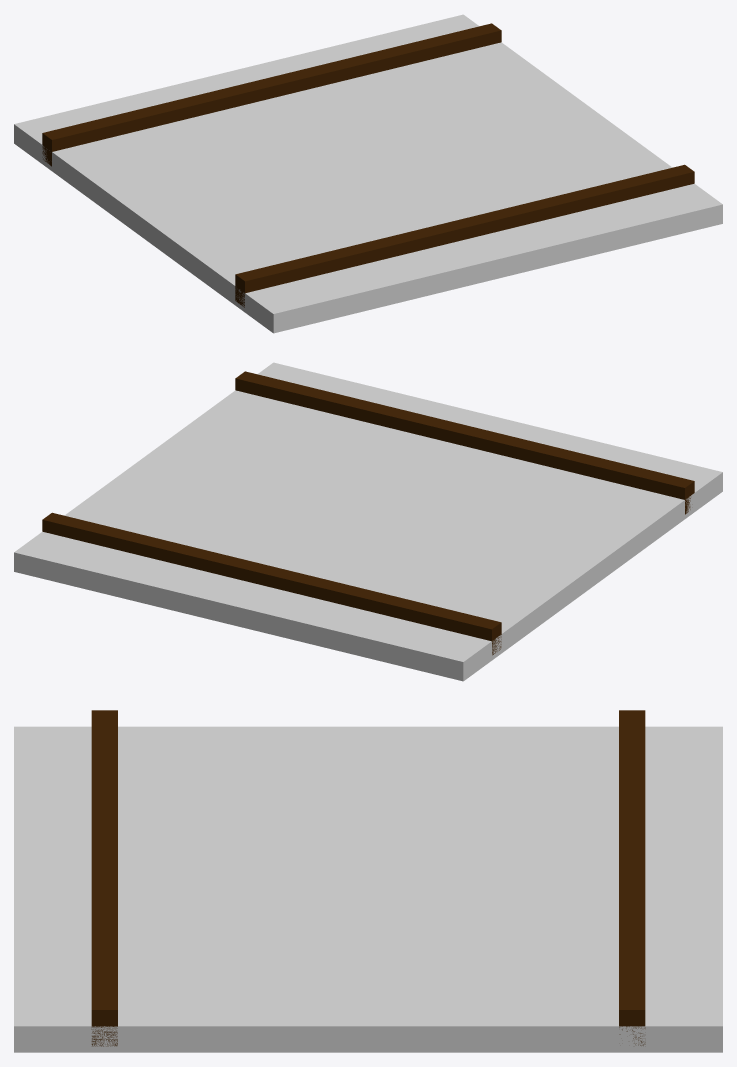
The model's file is CellingLine.fbx.
The picture shows the model from 3 angles, top to bottom: view 1: azimuth 30°, elevation 25°; view 2: azimuth 150°, elevation 25°; view 3: azimuth 270°, elevation 25°; orthographic projection. The views are drawn at different scales.
Parts seen in each view (by area): view 1: Plane.008; view 2: Plane.008; view 3: Plane.008.
Part boxes in pixels (bbox=[...]): Plane.008: bbox=[14, 14, 722, 333]; Plane.008: bbox=[14, 362, 722, 681]; Plane.008: bbox=[14, 710, 722, 1052].
Size of the model in its own units: 400 by 26.61 by 400.
